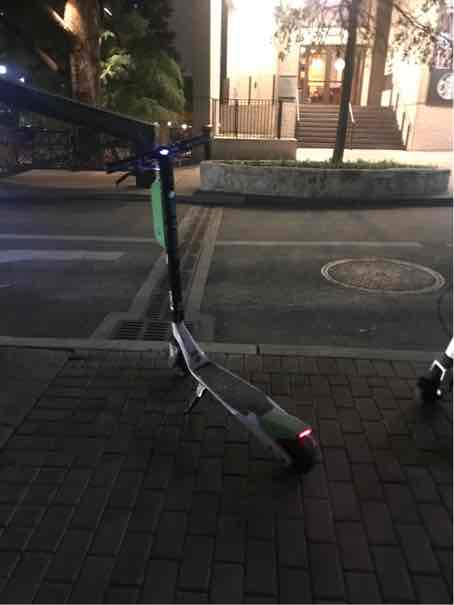scooter: (99, 125, 327, 473)
